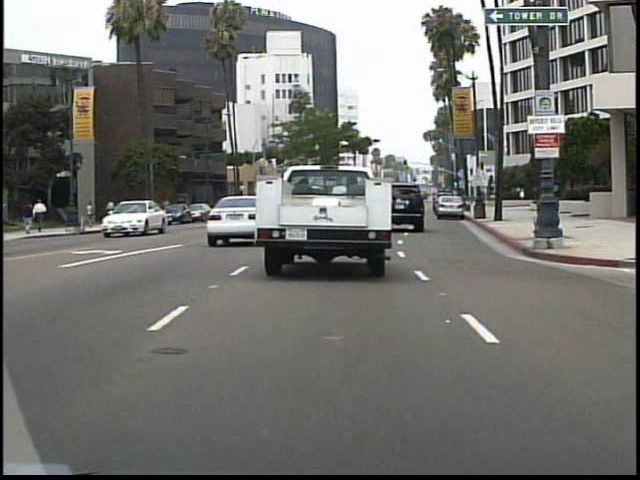person: (35, 195, 51, 233), (22, 198, 36, 235), (535, 183, 548, 216), (88, 199, 97, 226)
